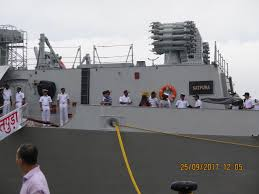tau_muctieu: (1, 36, 259, 194)
